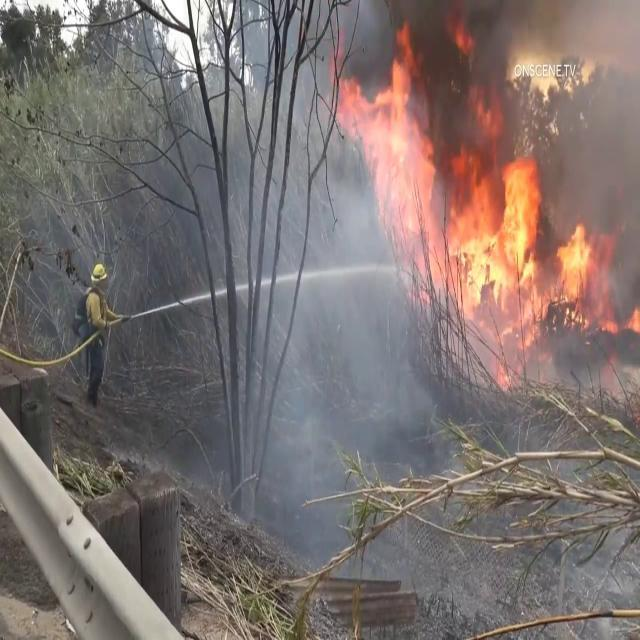Fire: (343, 36, 602, 340)
Smoke: (560, 1, 640, 327)
